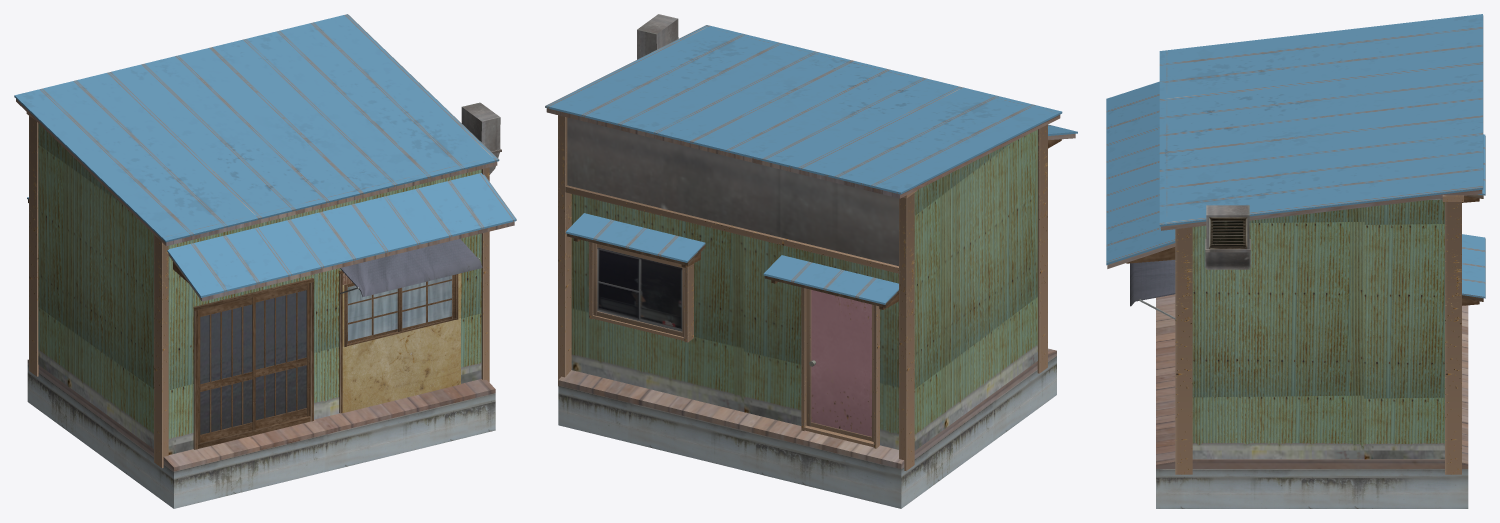
Rendered from ms_small_3.fbx.
3 renders of one model, left to right at view 1: azimuth 30°, elevation 25°; view 2: azimuth 150°, elevation 25°; view 3: azimuth 270°, elevation 25°, orthographic. The views are drawn at different scales.
Visible parts, largest first — view 1: ms_small_3; view 2: ms_small_3; view 3: ms_small_3.
Part boxes in pixels (left/top/right/bottom): ms_small_3: left=14, top=14, right=516, bottom=508; ms_small_3: left=545, top=14, right=1077, bottom=508; ms_small_3: left=1106, top=14, right=1485, bottom=508.
Size of the model in its own units: 650 by 559 by 527.
5 materials, 5 textured.
